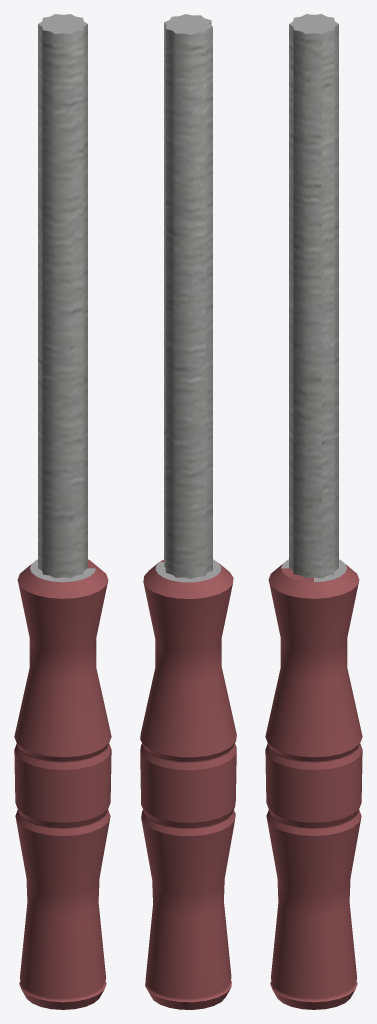
File: lever.fbx
3 views of the same model, side by side, from view 1: azimuth 90°, elevation 25°; view 2: azimuth 150°, elevation 25°; view 3: azimuth 270°, elevation 25° (orthographic).
Parts seen in each view (by area): view 1: pCylinder1; view 2: pCylinder1; view 3: pCylinder1.
Part boxes in pixels (left/top/right/bottom): pCylinder1: left=14, top=14, right=111, bottom=1009; pCylinder1: left=140, top=14, right=236, bottom=1009; pCylinder1: left=265, top=14, right=362, bottom=1009.
Bounding box in the file's own units: 4 × 43.94 × 4.
3 materials, 1 textured.
